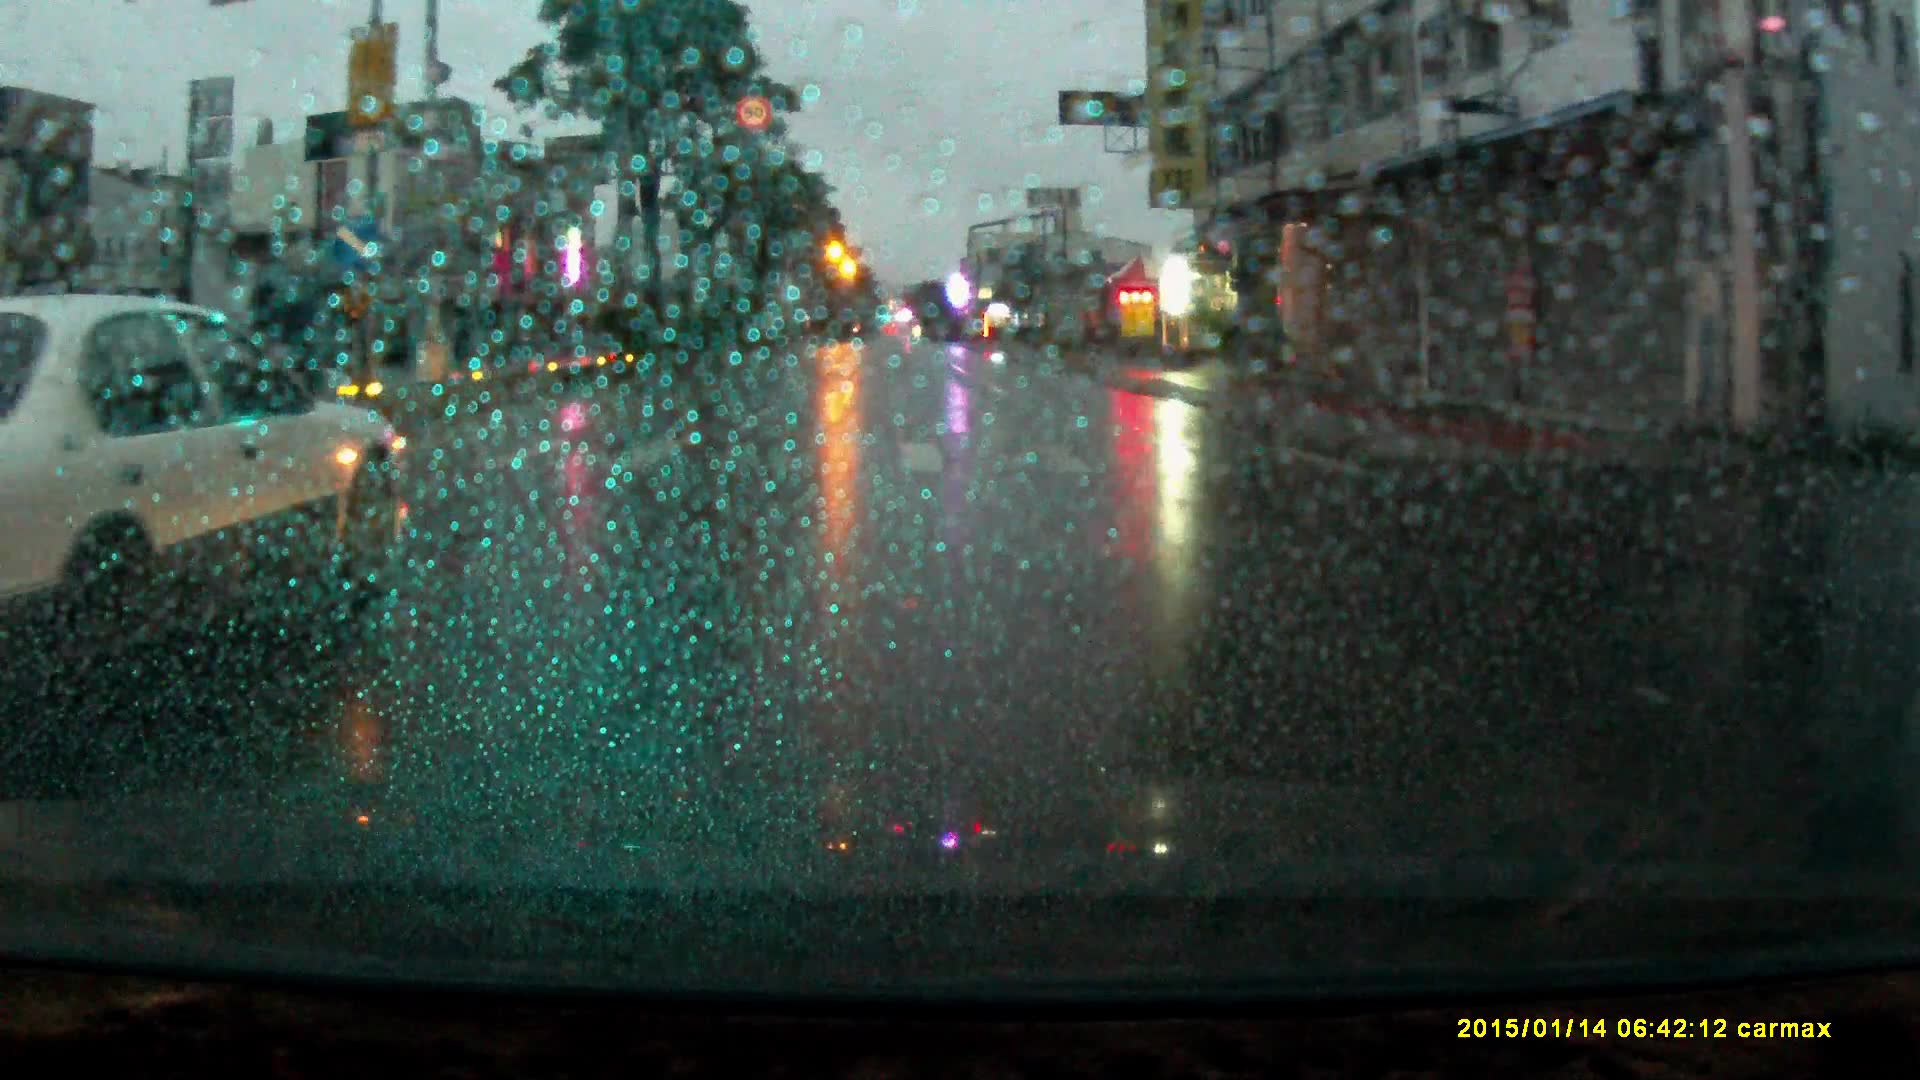vehicle: (1, 289, 419, 673)
